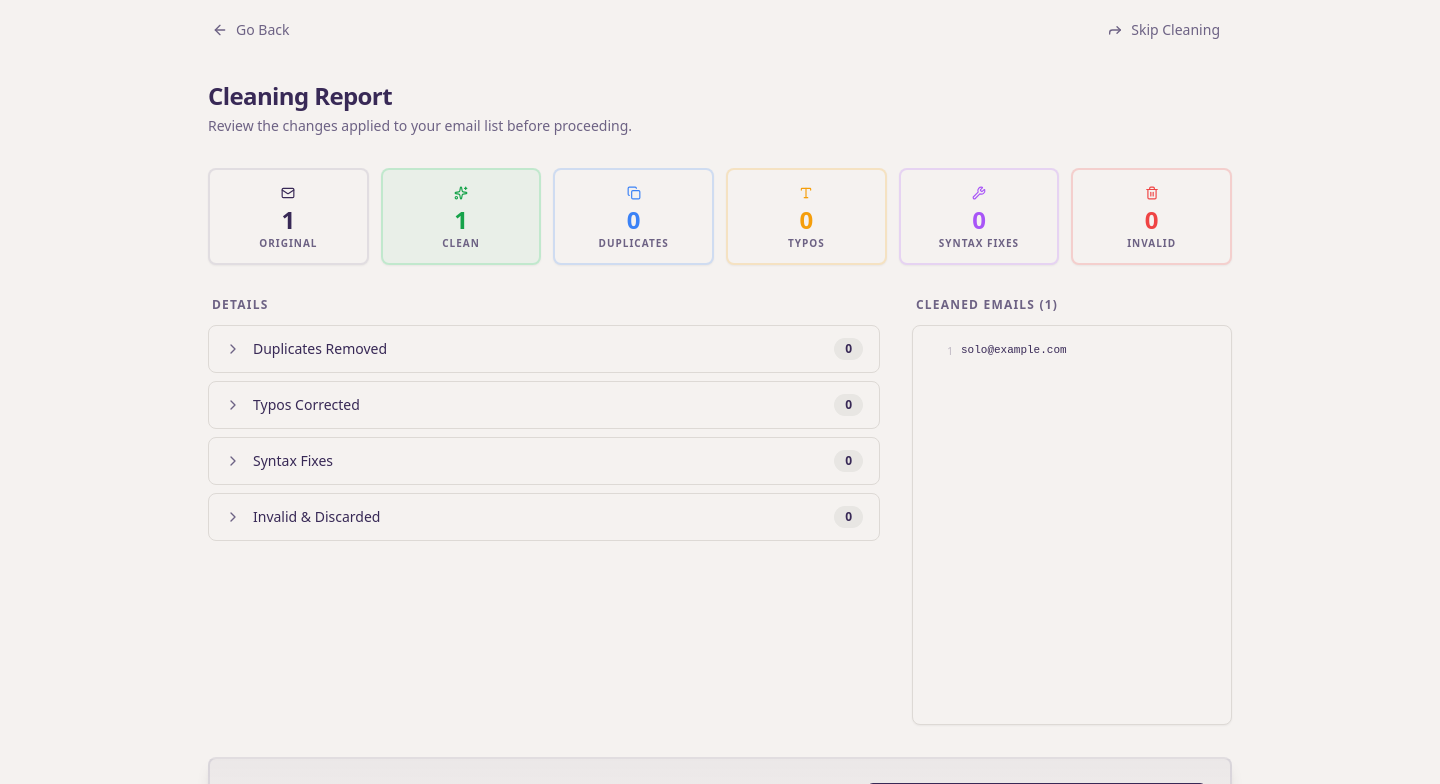
CleaningReport › shows "No items" for empty categories when expanded
Note: Expand an empty section - click on the "Duplicates Removed" text
What coordinates should you click on to do the following:
click the text "Duplicates Removed"
I would click on:
 (320, 349)
Its box is [253,339,387,359].
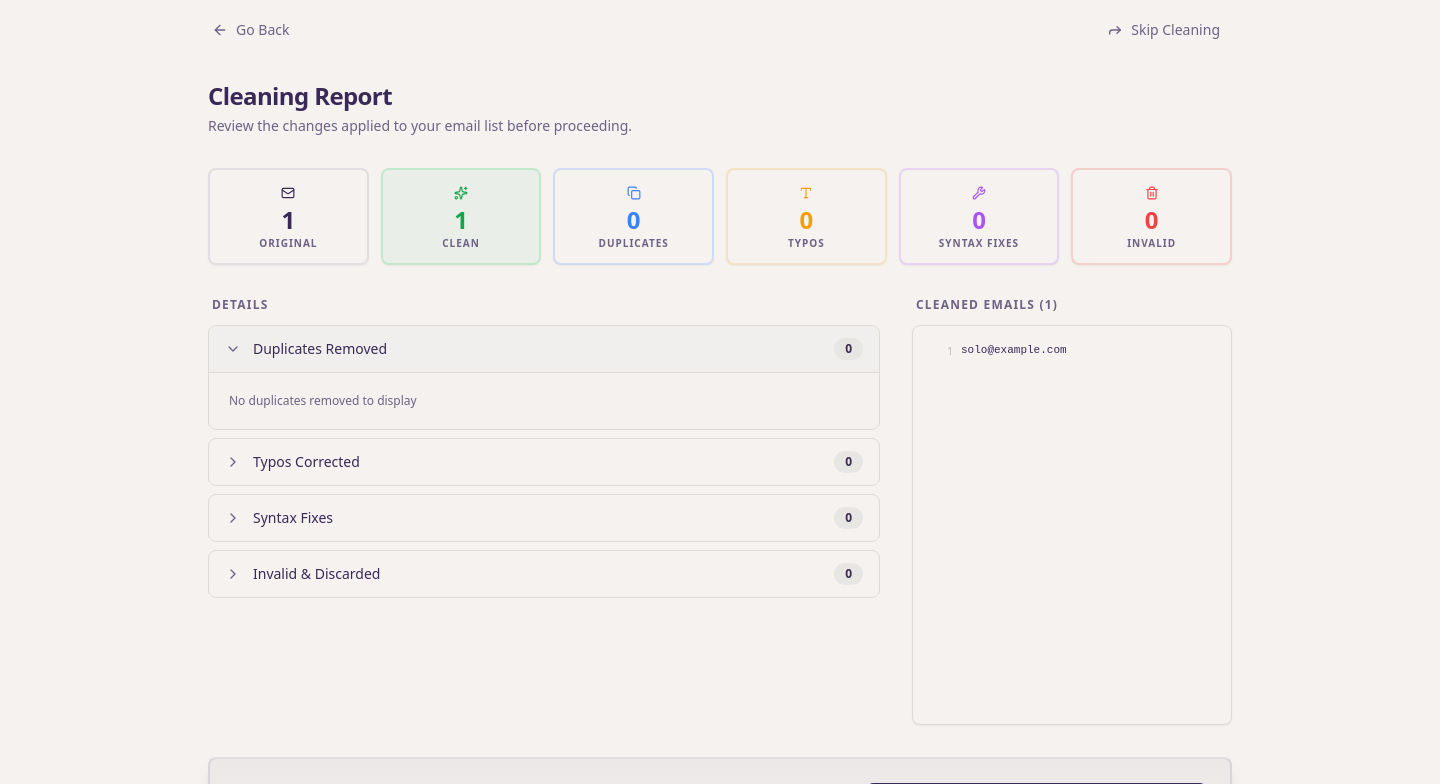
Result: the text "No duplicates removed to display" is shown at [229,392,417,409]
